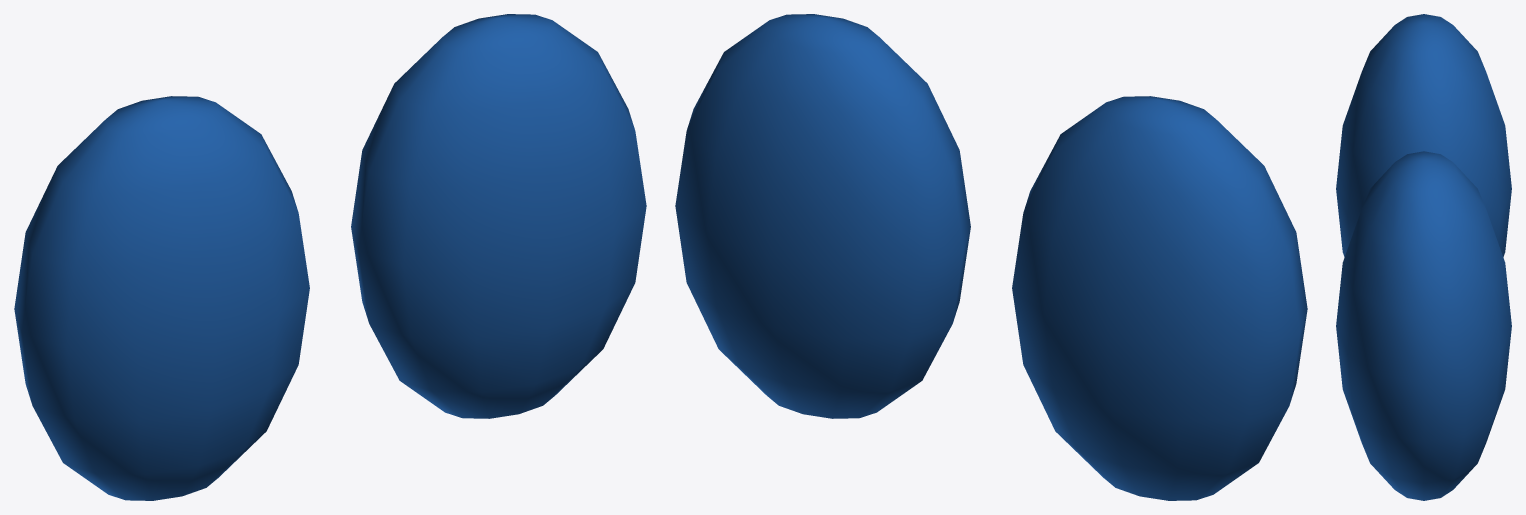
Rendered from morph-b.glb.
3 renders of one model, left to right at view 1: azimuth 30°, elevation 25°; view 2: azimuth 150°, elevation 25°; view 3: azimuth 270°, elevation 25°, orthographic. The views are drawn at different scales.
Visible parts, largest first — view 1: cortex.left, cortex.right; view 2: cortex.left, cortex.right; view 3: cortex.right, cortex.left.
Boxes of the visible parts, x1=… form: cortex.left: x1=14, y1=96, x2=309, y2=500; cortex.right: x1=351, y1=14, x2=646, y2=418; cortex.left: x1=1012, y1=96, x2=1307, y2=500; cortex.right: x1=675, y1=14, x2=970, y2=418; cortex.right: x1=1336, y1=151, x2=1511, y2=500; cortex.left: x1=1336, y1=14, x2=1511, y2=256.
Size of the model in its own units: 4.4 by 2.7 by 1.3.
